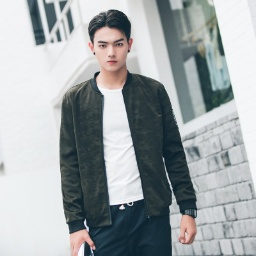face: (88, 8, 134, 73)
